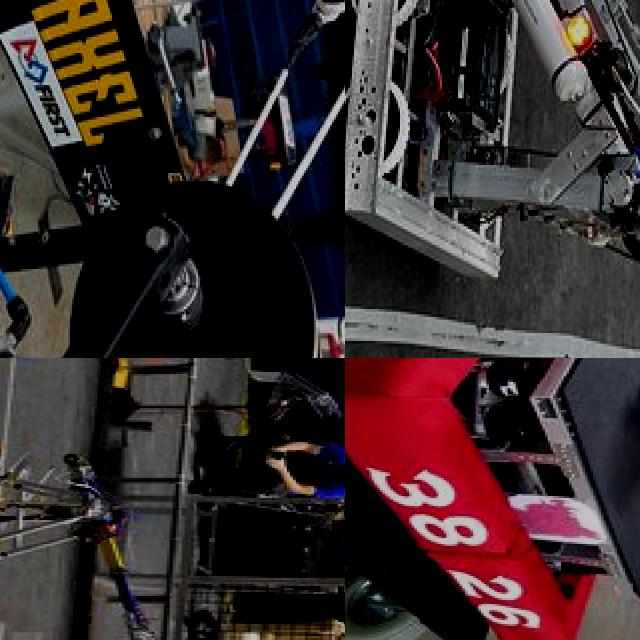FRC-Robots: (345, 0, 640, 307), (374, 358, 640, 640), (0, 404, 211, 640)
